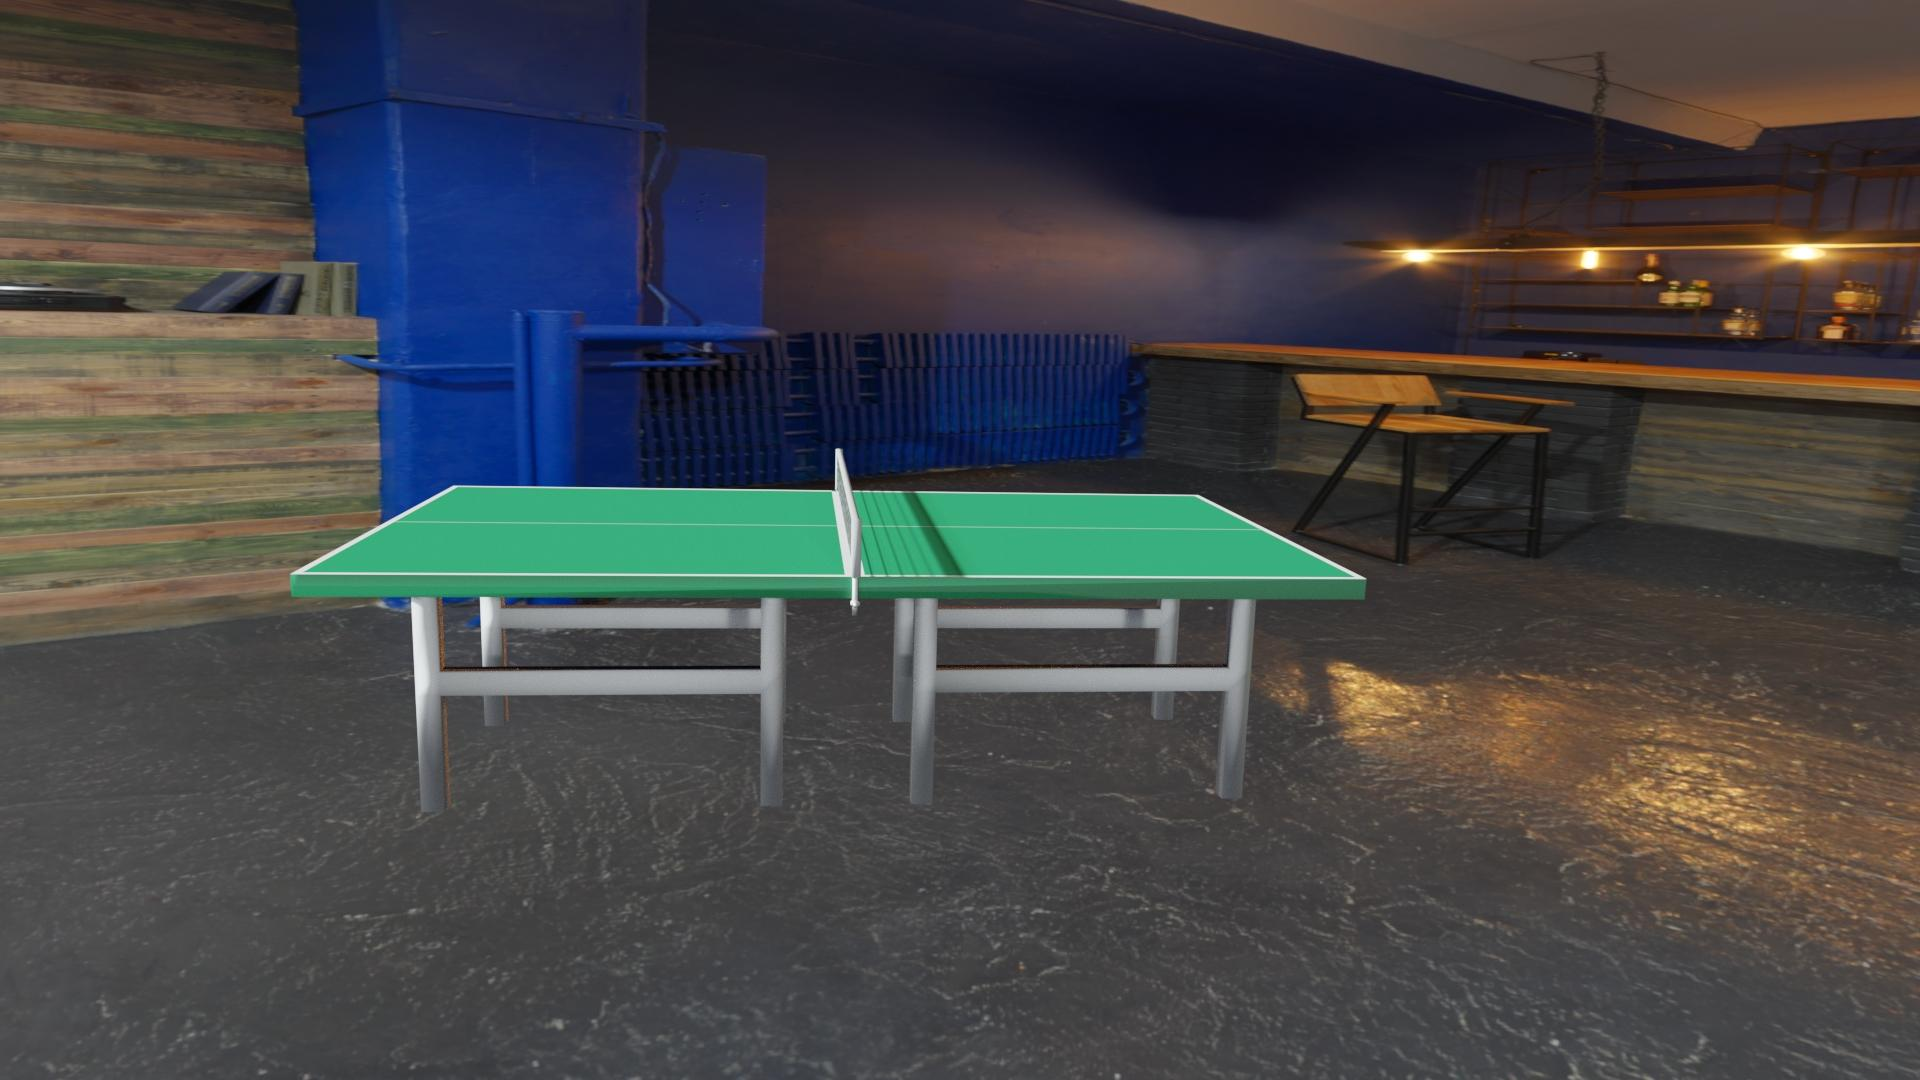table: (302, 487, 1356, 578)
